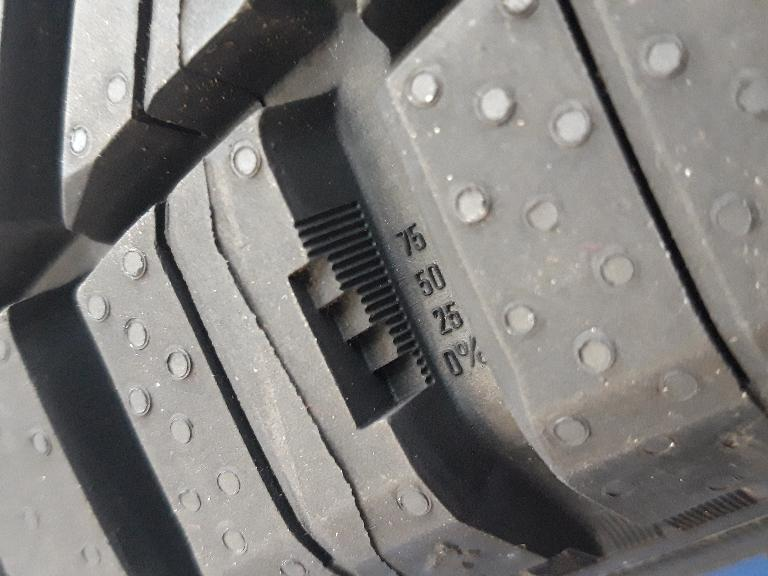temoin:100: (280, 190, 448, 441)
